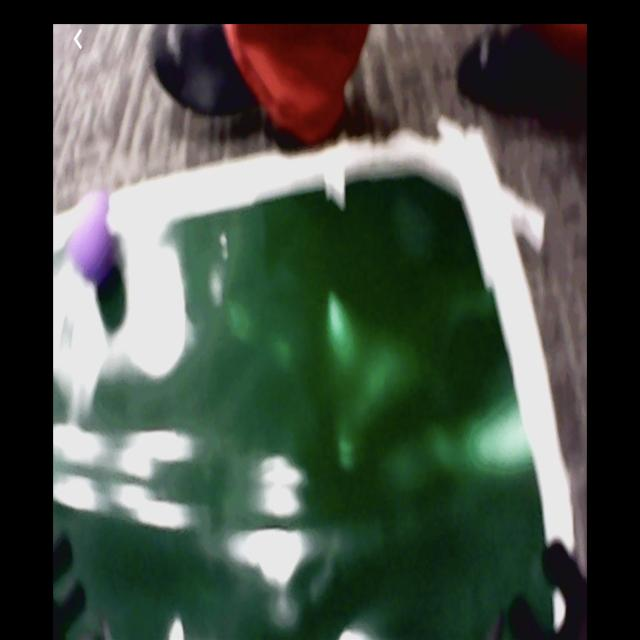ball: (72, 195, 113, 280)
